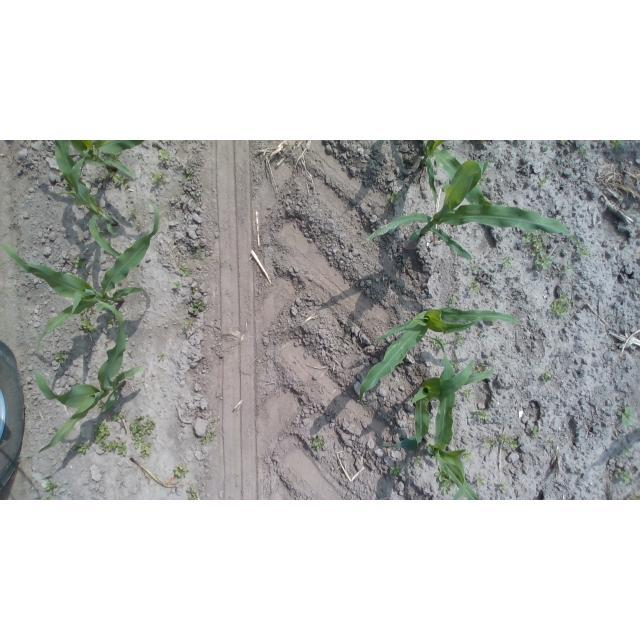Maize: (1, 200, 164, 346), (347, 163, 581, 259), (354, 307, 525, 400), (33, 318, 146, 455), (51, 145, 141, 267), (409, 354, 503, 454), (406, 142, 502, 230), (396, 428, 492, 500), (58, 144, 144, 187)
Weeds: (523, 231, 550, 272), (127, 416, 159, 444), (433, 467, 455, 496), (97, 441, 129, 460), (483, 433, 520, 449), (200, 417, 217, 447), (108, 169, 133, 188), (92, 421, 112, 444), (553, 295, 571, 316), (130, 209, 146, 231), (176, 261, 195, 279), (574, 241, 592, 260), (139, 445, 156, 464), (307, 437, 330, 451), (613, 469, 633, 485), (619, 407, 634, 428), (79, 319, 97, 336), (191, 296, 208, 314), (430, 335, 447, 352), (173, 462, 189, 478), (45, 480, 60, 497), (70, 255, 87, 269), (57, 350, 72, 365), (187, 484, 201, 500), (73, 442, 90, 455), (472, 408, 490, 420), (151, 171, 166, 185), (474, 475, 489, 489), (157, 149, 170, 165), (97, 399, 112, 412), (111, 413, 126, 426), (105, 314, 120, 327), (387, 192, 402, 205), (454, 332, 466, 348), (171, 280, 184, 294), (389, 464, 404, 476), (622, 441, 633, 457), (156, 350, 168, 364), (624, 490, 640, 500), (181, 317, 193, 330), (540, 372, 553, 384), (461, 450, 473, 463), (495, 481, 509, 492), (184, 168, 196, 180), (192, 192, 204, 204), (448, 294, 459, 307), (189, 283, 200, 295), (563, 262, 574, 274), (412, 455, 424, 466), (608, 141, 622, 150), (539, 177, 550, 188), (463, 389, 474, 400), (477, 362, 488, 373), (465, 262, 477, 272), (533, 423, 540, 439), (450, 360, 460, 371), (502, 258, 513, 267), (470, 283, 480, 292), (544, 437, 553, 447), (580, 148, 589, 157), (606, 312, 615, 320), (195, 247, 202, 257), (477, 178, 485, 186), (559, 140, 567, 145)
